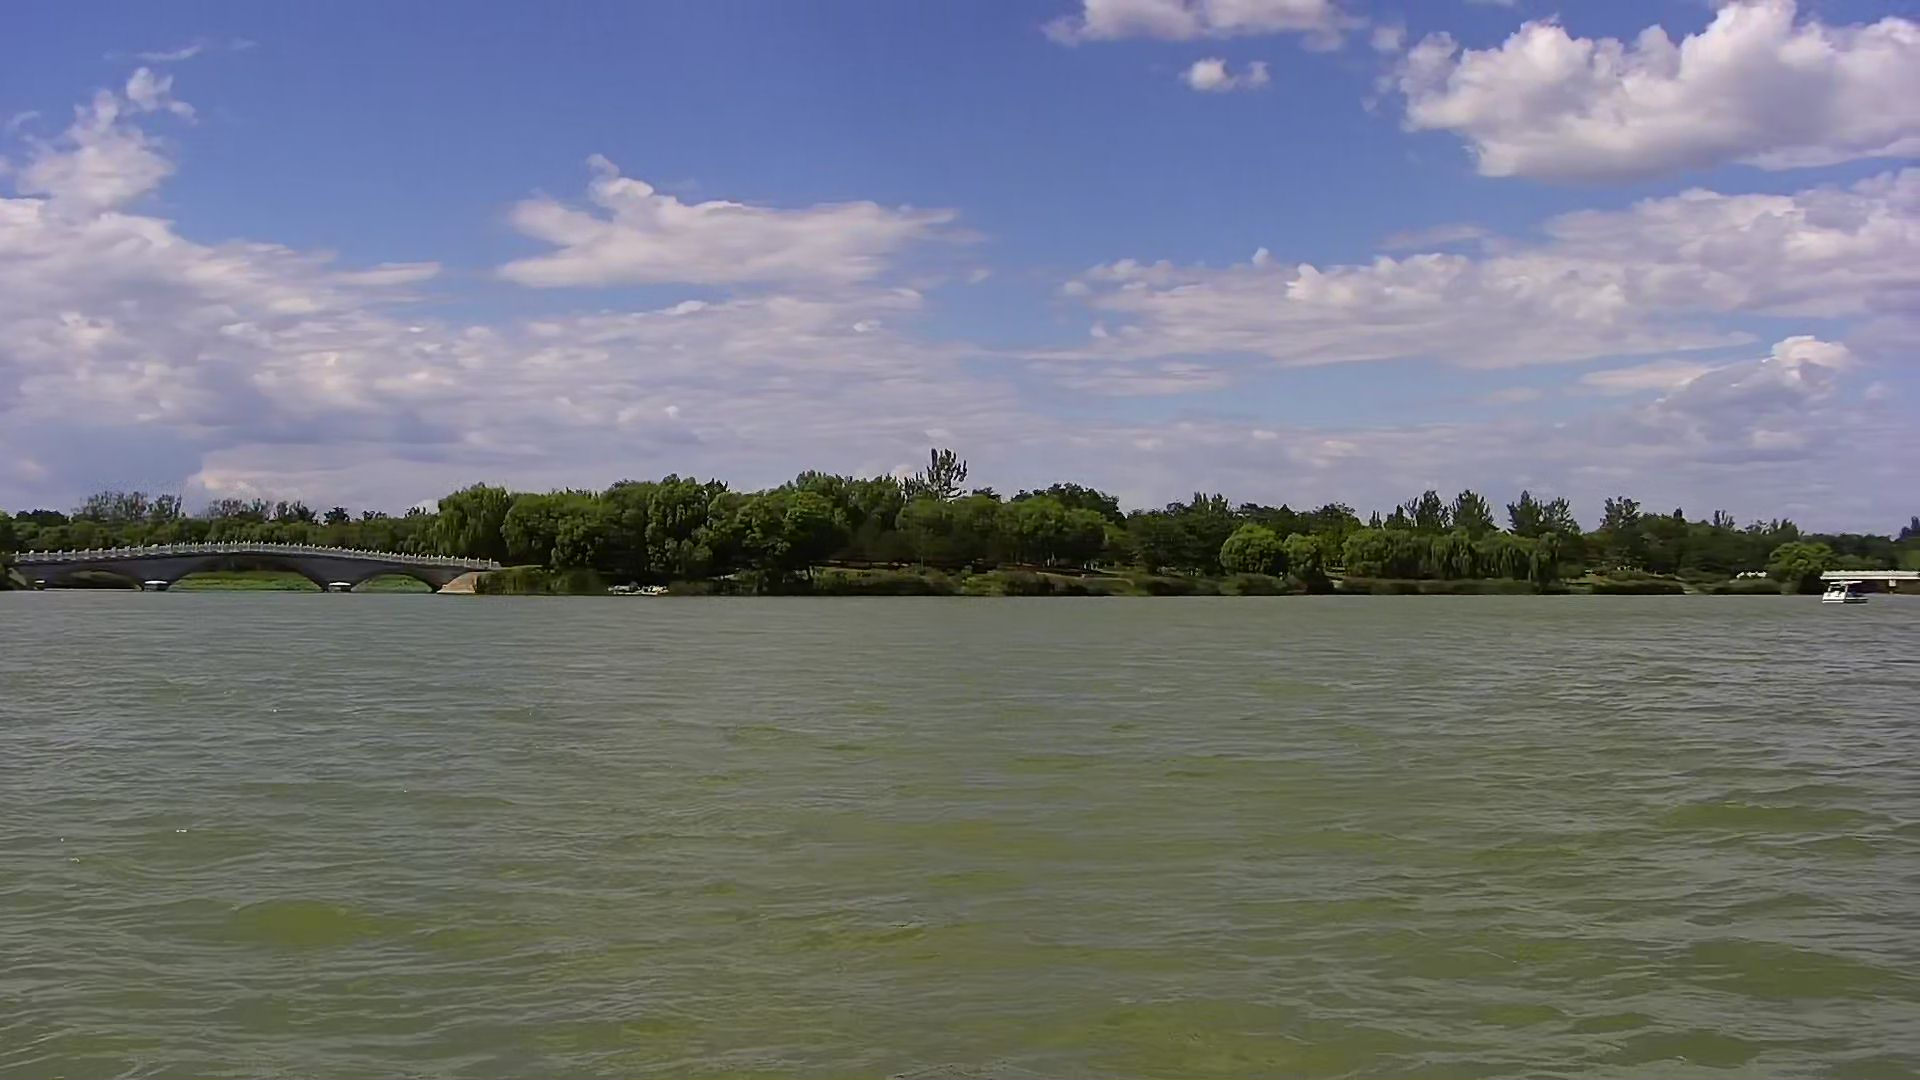boat: (1816, 564, 1875, 611)
bridge: (1, 534, 525, 599)
